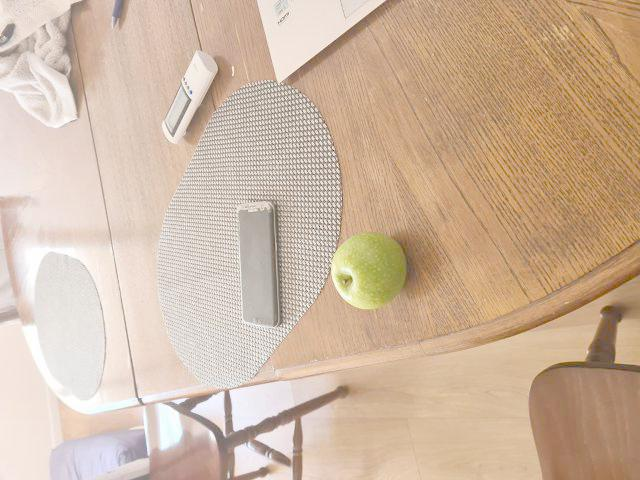apple: (332, 232, 408, 306)
